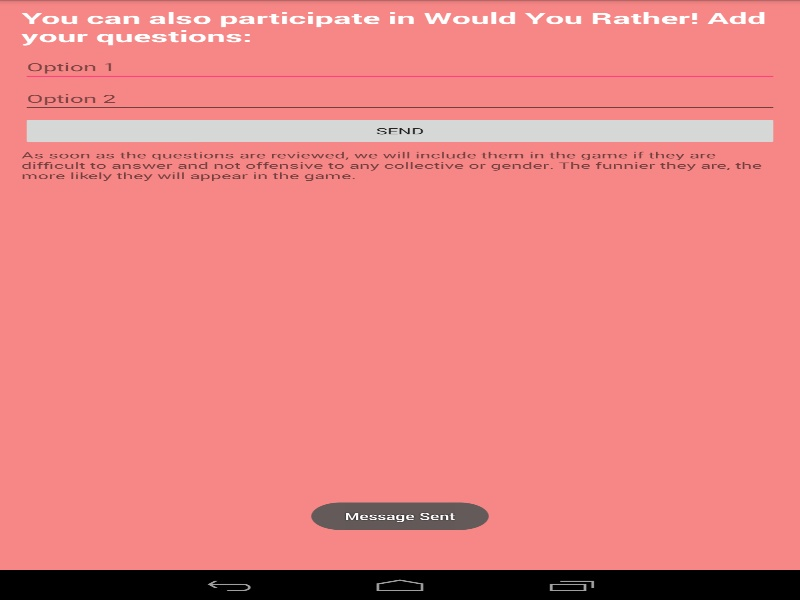Button: (21, 115, 778, 145)
Input: (21, 52, 778, 81), (21, 84, 778, 112)
